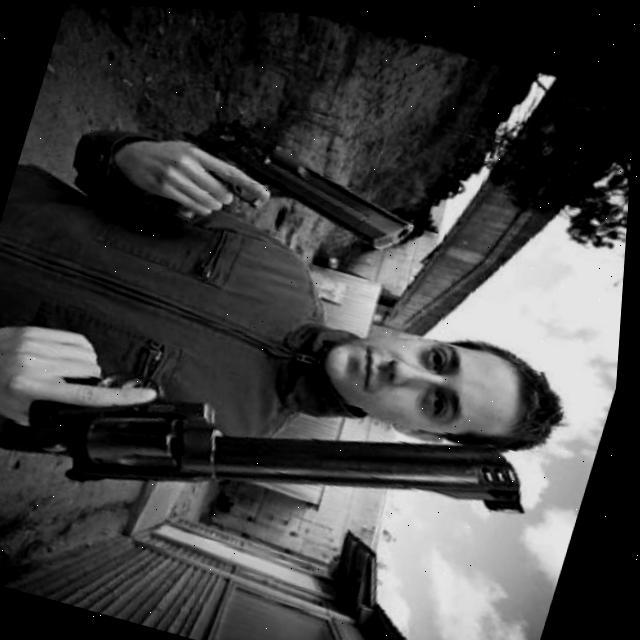gun: (9, 316, 556, 594), (140, 104, 440, 278)
